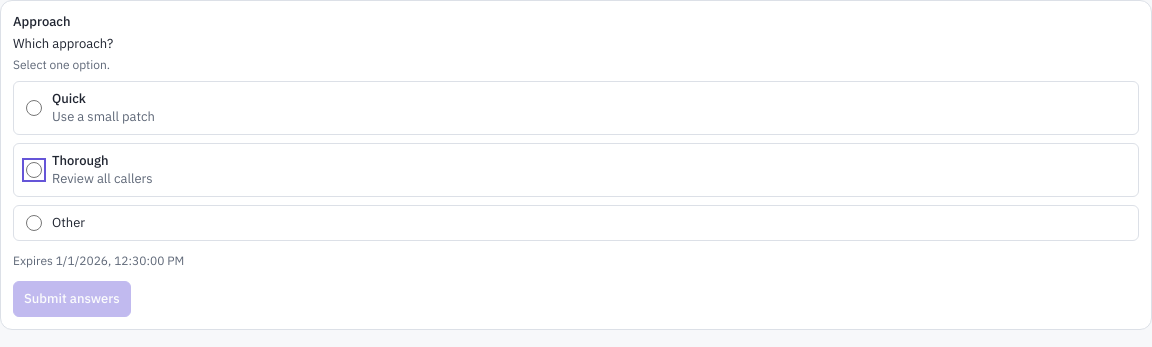
Test: submits a single answer using a native radio from the keyboard
Later steps or results of the test are not shown.
Press Space in the radio button labelled "Thorough Review all callers", box [26,162,42,178]
Click the radio button labelled "Thorough Review all callers" at (34, 170), box [26,162,42,178]
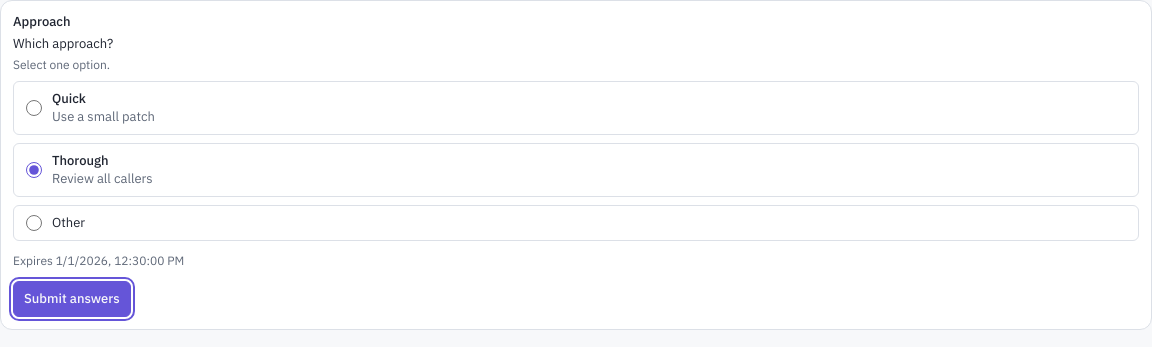
expect the radio button labelled "Quick Use a small patch" is not checked: met, box [26,100,42,116]
expect the radio button labelled "Thorough Review all callers" is checked: met, box [26,162,42,178]
